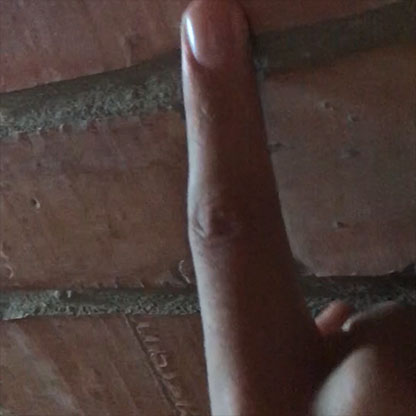fingertip: (162, 1, 270, 73)
